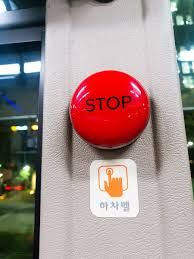bell: (69, 70, 154, 151)
